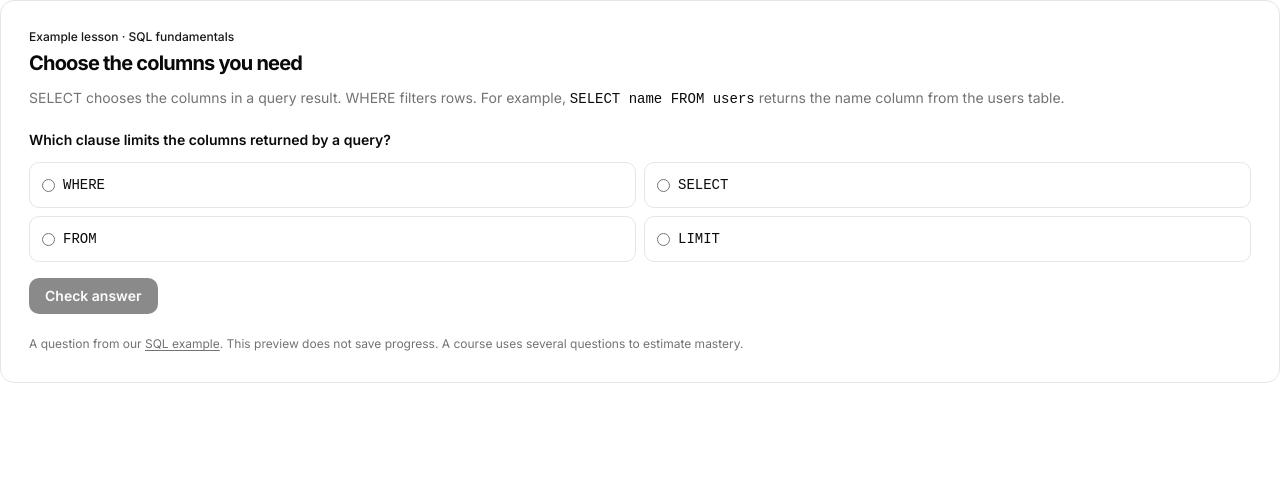
Test: LessonPreview › explains a wrong answer and allows a successful retry
Click the radio button labelled "WHERE" at (48, 185), box [42,179,55,192]
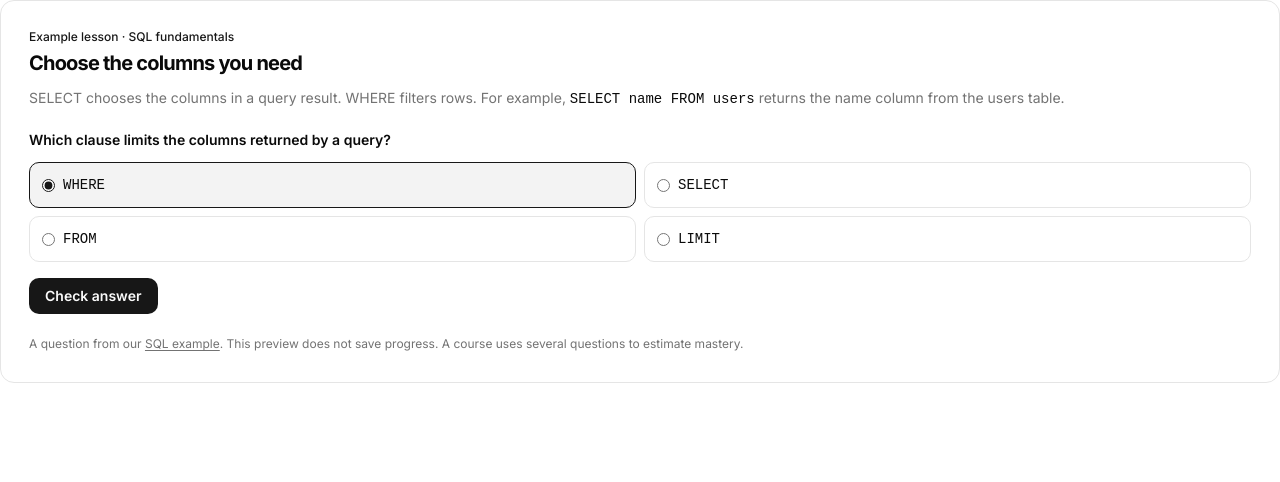
Click the button "Check answer" at (93, 296), box [29,278,158,314]
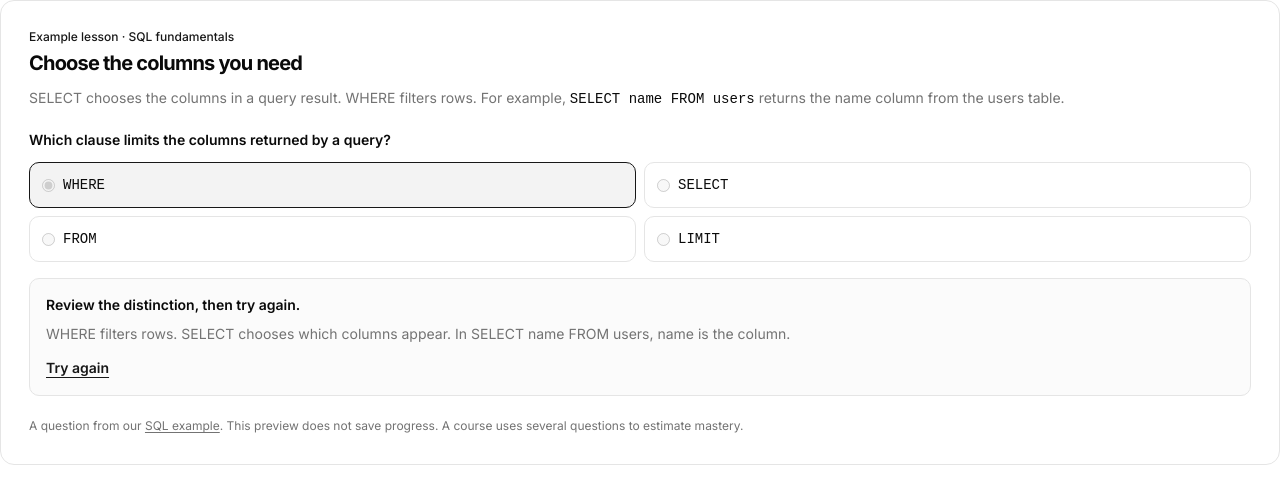
Expected: the message shows "WHERE filters rows", [46,325,790,342]
Click the button "Try again" at (78, 368), box [46,358,109,378]
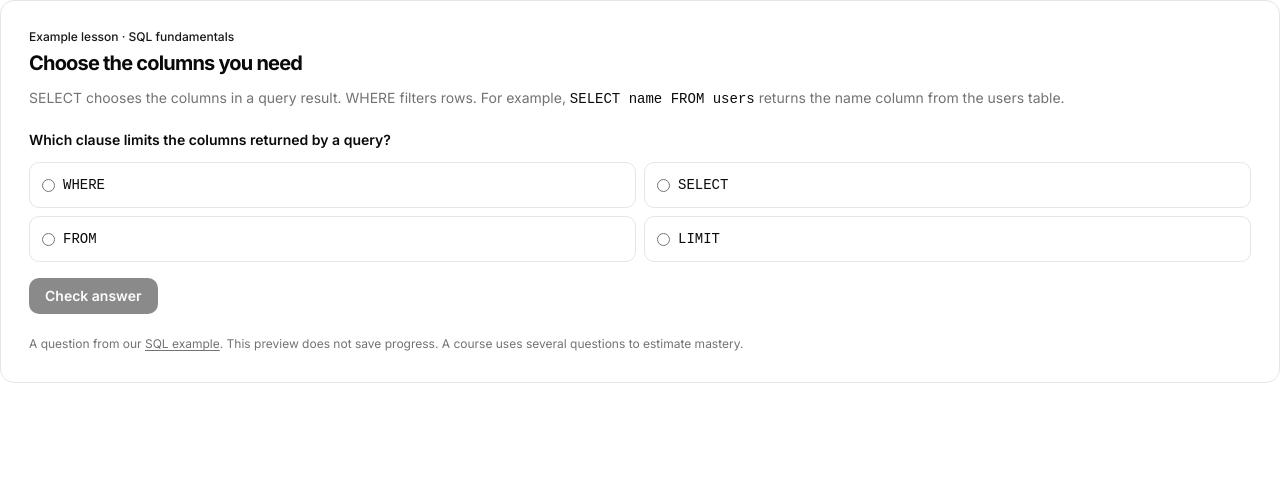
Expected: the message is gone
Click the radio button labelled "SELECT" at (664, 185), box [657,179,670,192]
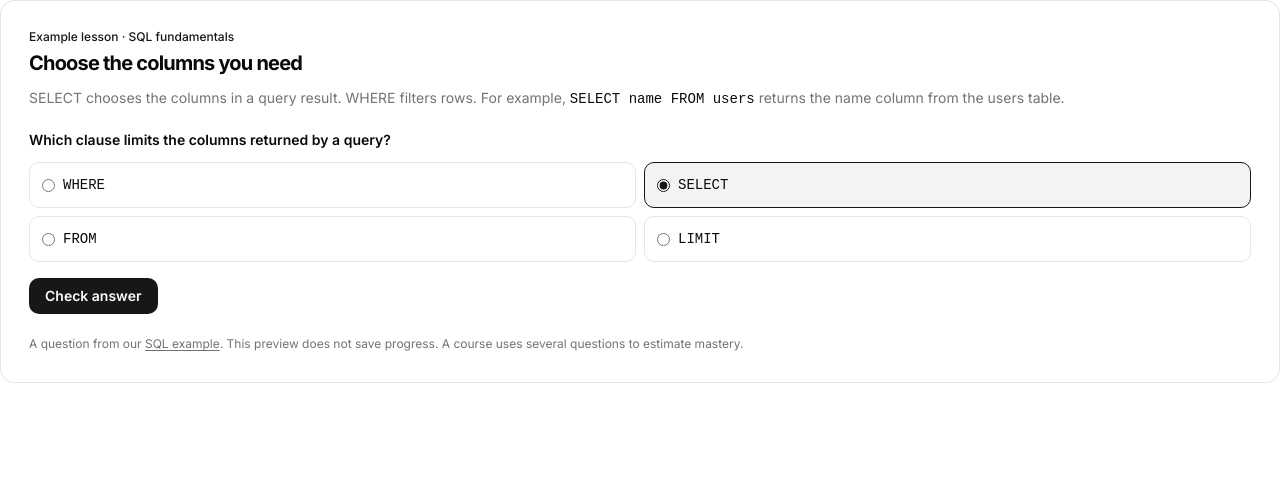
Click the button "Check answer" at (93, 296), box [29,278,158,314]
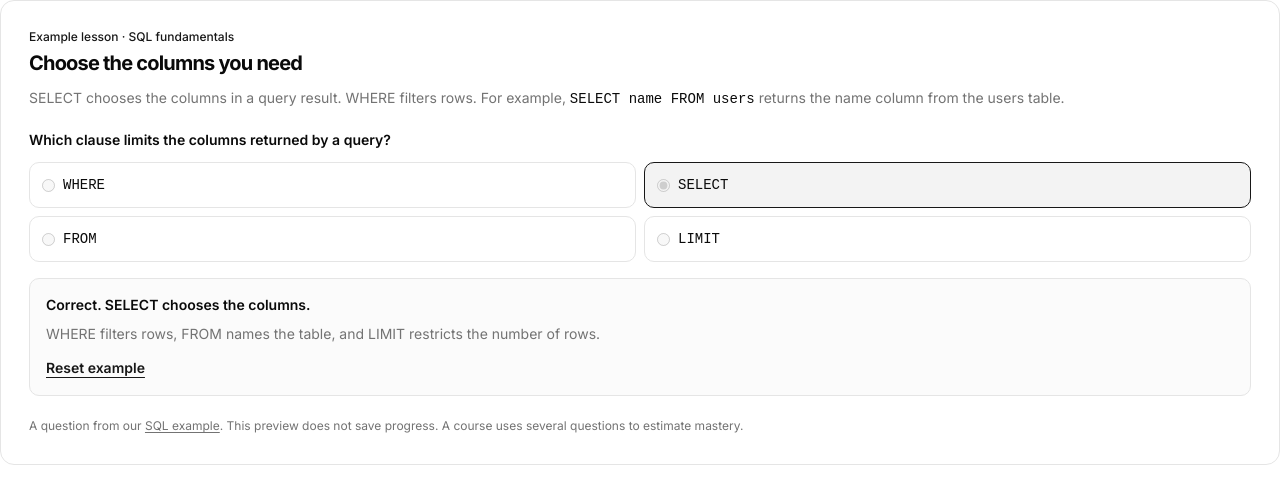
Expected: the message shows "Correct. SELECT chooses the columns.", [46,296,310,313]
Click the button "Reset example" at (95, 368), box [46,358,145,378]
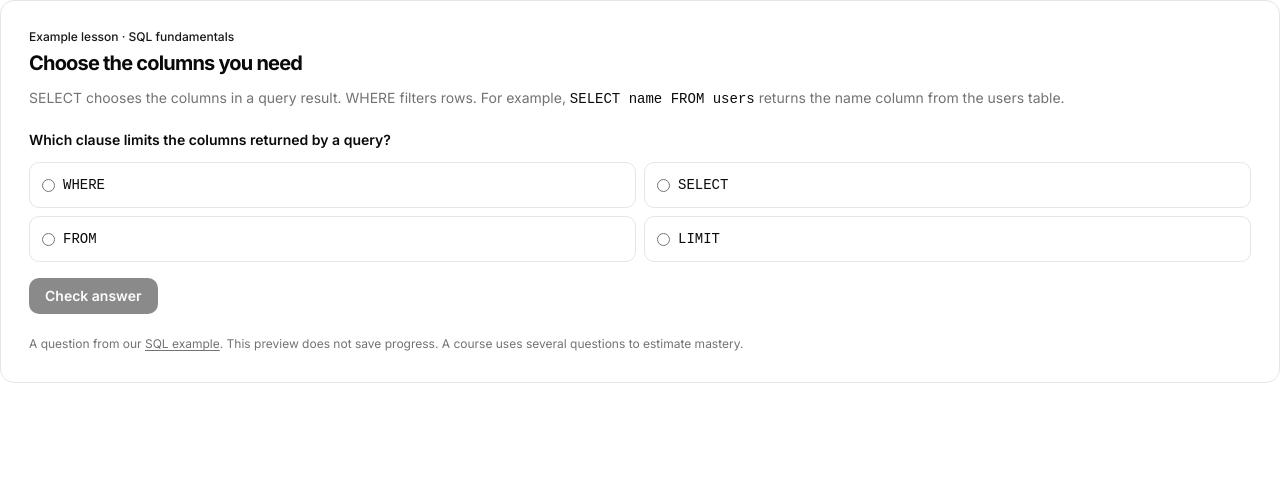
Expected: the button "Check answer" is disabled, [29,278,158,314]
